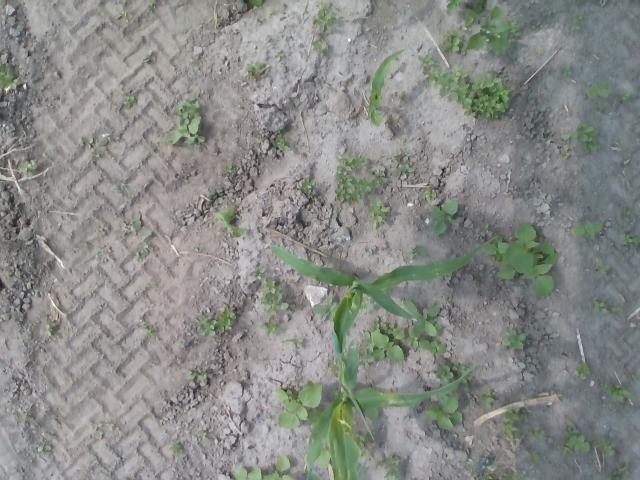Maize: (270, 234, 500, 438), (304, 339, 478, 480), (367, 48, 402, 127)
Weeds: (480, 222, 560, 298), (424, 65, 515, 120), (154, 94, 206, 149), (465, 5, 521, 54), (335, 154, 387, 205), (274, 380, 323, 431), (358, 317, 406, 366), (557, 124, 601, 160), (233, 455, 296, 480), (424, 392, 464, 431), (402, 300, 442, 338), (195, 304, 237, 336), (430, 362, 473, 390), (262, 278, 290, 316), (430, 200, 459, 236), (556, 427, 590, 456), (598, 382, 634, 409), (213, 208, 245, 236), (311, 0, 339, 31), (387, 148, 415, 176), (406, 336, 446, 355), (376, 453, 404, 480), (352, 430, 375, 460), (368, 199, 390, 230), (312, 296, 338, 321), (0, 61, 22, 90), (464, 0, 486, 27), (570, 220, 604, 237), (315, 435, 332, 468), (586, 78, 612, 99), (441, 29, 463, 53), (602, 462, 630, 480), (501, 330, 526, 350), (132, 216, 154, 238), (258, 318, 282, 338), (246, 60, 269, 80), (593, 438, 616, 456), (504, 407, 529, 423), (272, 132, 292, 152), (502, 422, 524, 440), (298, 176, 316, 196), (407, 243, 428, 260), (479, 388, 496, 409), (572, 361, 590, 380), (37, 433, 53, 454), (136, 244, 154, 262), (524, 446, 542, 464), (44, 324, 70, 336), (22, 159, 38, 178), (312, 38, 330, 54), (418, 54, 438, 68), (325, 360, 340, 378), (186, 369, 208, 381), (123, 92, 138, 109), (500, 469, 523, 480), (248, 266, 266, 280), (364, 406, 379, 422), (44, 410, 60, 425), (568, 14, 582, 31), (619, 234, 640, 244), (618, 89, 632, 104), (446, 0, 460, 15), (169, 440, 184, 454), (529, 426, 544, 440), (418, 189, 437, 200), (283, 338, 303, 348), (210, 189, 224, 203), (143, 324, 157, 338), (594, 300, 608, 314), (594, 262, 610, 274), (98, 134, 111, 146), (93, 422, 103, 437), (90, 148, 100, 161), (560, 65, 572, 75), (478, 472, 493, 480), (612, 304, 624, 314), (244, 0, 263, 6), (222, 165, 235, 173), (621, 206, 631, 216), (198, 431, 208, 441), (330, 386, 340, 396), (78, 136, 86, 148), (23, 412, 34, 420), (480, 222, 490, 230), (596, 105, 606, 112), (148, 0, 156, 8), (364, 247, 373, 254), (612, 408, 618, 418), (536, 49, 544, 56), (121, 8, 128, 16), (120, 183, 128, 190), (462, 123, 468, 130), (216, 18, 222, 25), (110, 426, 116, 431)
